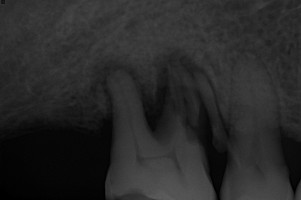Dental Caries: (93, 49, 201, 135)
